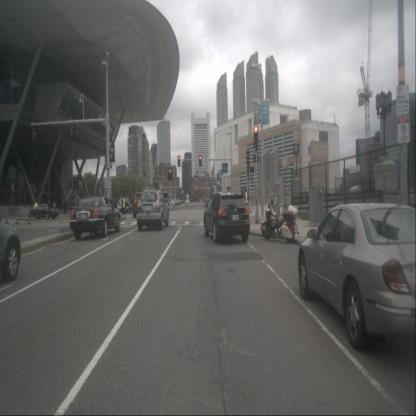cone: (26, 206, 32, 224), (15, 207, 19, 224), (5, 208, 9, 224)
